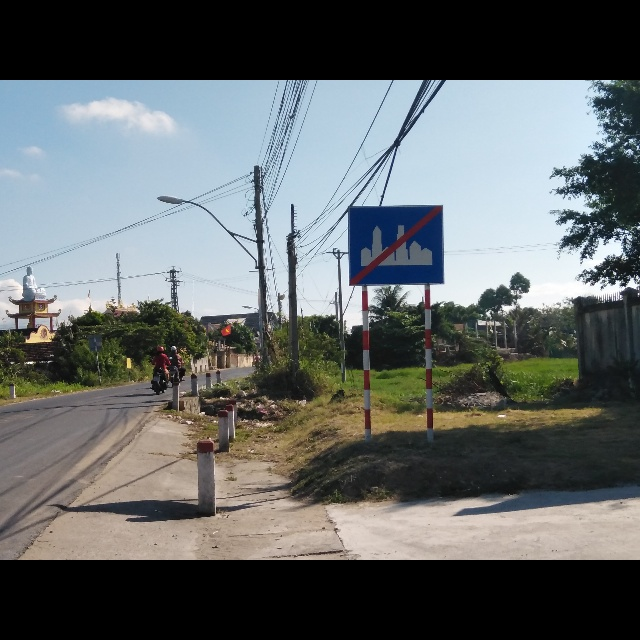Hết khu đông dân cư: (344, 204, 442, 285)
